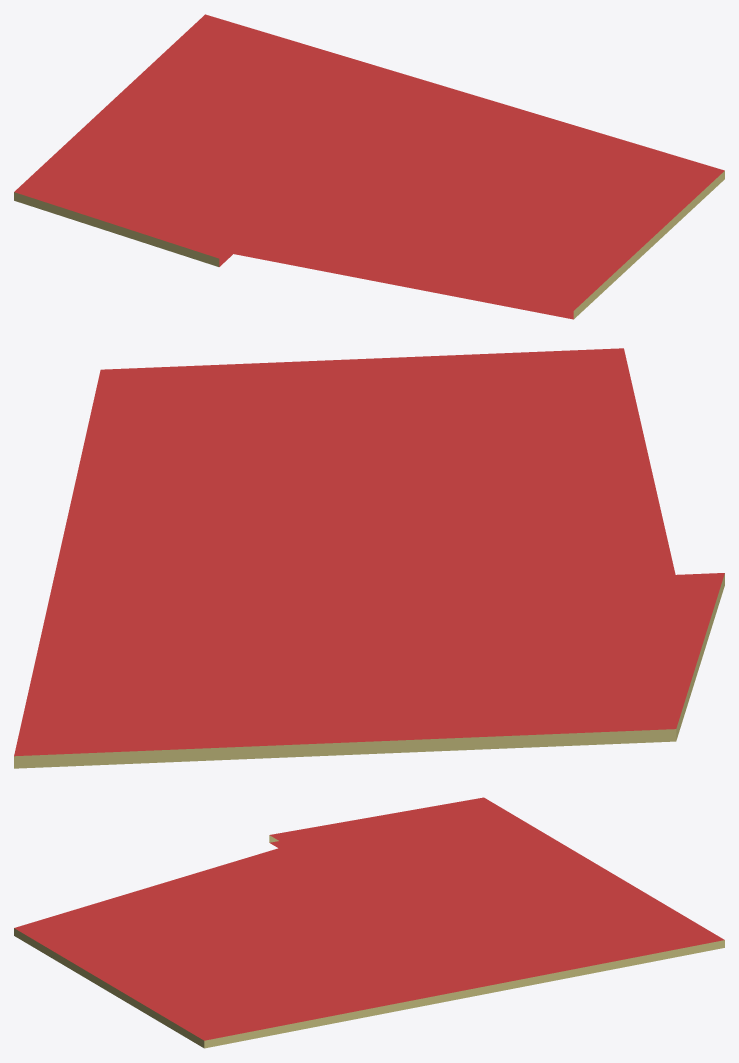
The picture shows the model from 3 angles, top to bottom: view 1: azimuth 30°, elevation 25°; view 2: azimuth 150°, elevation 25°; view 3: azimuth 270°, elevation 25°; orthographic projection. The views are drawn at different scales.
Bounding box in the file's own units: 6.71 × 8.29 × 0.1.
